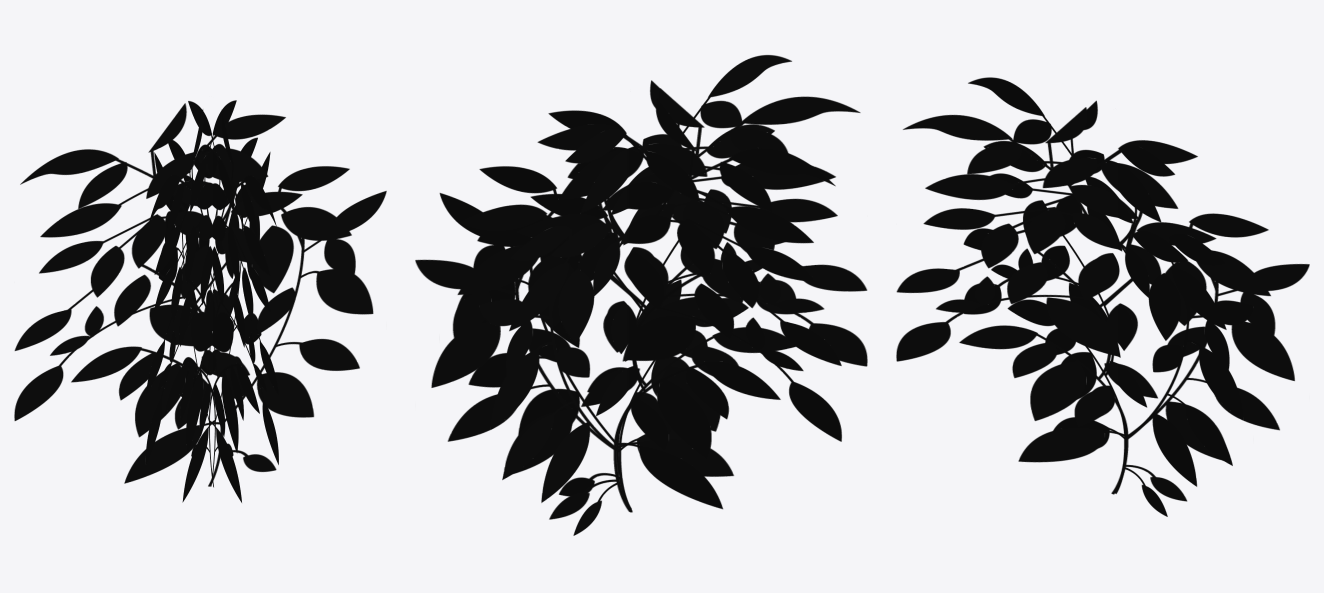
Rendered from BranchFig.glb.
3 renders of one model, left to right at view 1: azimuth 30°, elevation 25°; view 2: azimuth 150°, elevation 25°; view 3: azimuth 270°, elevation 25°, orthographic. The views are drawn at different scales.
Parts seen in each view (by area): view 1: BranchFig; view 2: BranchFig; view 3: BranchFig.
Part boxes in pixels (x1,y1,x2,y2): BranchFig: (14,100,386,502); BranchFig: (415,55,867,535); BranchFig: (896,77,1309,516).
Size of the model in its own units: 2 by 2 by 1.95.
1 material, 1 textured.
